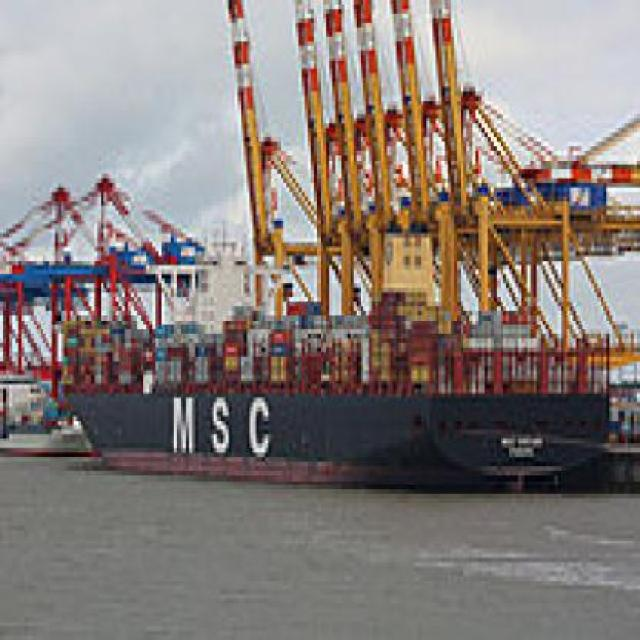container: (44, 293, 627, 504)
